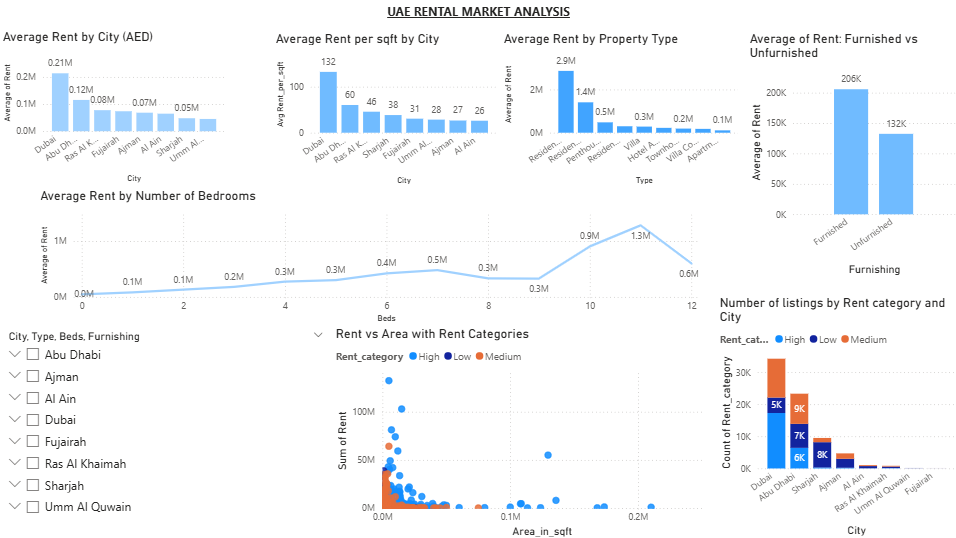

Layout of this report page (visuals, bound fields, positions):
{"tool":"powerbi","page":{"name":"Page 1","canvas":[1280,720],"ordinal":0},"visuals":[{"type":"clusteredColumnChart","title":"Average Rent by City (AED)","fields":{"Category":["dubai_rental_dataset_cleaned.City"],"Y":["Avg(dubai_rental_dataset_cleaned.Rent)"]},"box":[0,39.8,306,210],"z":0},{"type":"clusteredColumnChart","title":"Average Rent per sqft by City","fields":{"Category":["dubai_rental_dataset_cleaned.City"],"Y":["Avg(dubai_rental_dataset_cleaned.Rent_per_sqft)"]},"box":[363.7,41.2,304.7,210],"z":1000},{"type":"clusteredColumnChart","title":"Average Rent by Property Type","fields":{"Category":["dubai_rental_dataset_cleaned.Type"],"Y":["Avg(dubai_rental_dataset_cleaned.Rent)"]},"box":[668.3,41.2,322.5,210],"z":2000},{"type":"lineChart","title":"Average Rent by Number of Bedrooms","fields":{"Category":["dubai_rental_dataset_cleaned.Beds"],"Y":["Avg(dubai_rental_dataset_cleaned.Rent)"]},"box":[49.4,251.1,887.9,183.9],"z":3000},{"type":"clusteredColumnChart","title":"Average of Rent: Furnished vs Unfurnished","fields":{"Category":["dubai_rental_dataset_cleaned.Furnishing"],"Y":["Avg(dubai_rental_dataset_cleaned.Rent)"]},"box":[996.3,41.2,284.1,330.7],"z":4000},{"type":"columnChart","title":"Number of listings by Rent category and City","fields":{"Category":["dubai_rental_dataset_cleaned.City"],"Y":["CountNonNull(dubai_rental_dataset_cleaned.Rent_category)"],"Series":["dubai_rental_dataset_cleaned.Rent_category"]},"box":[956.5,393.9,323.9,326.6],"z":5000},{"type":"scatterChart","title":"Rent vs Area with Rent Categories","fields":{"X":["dubai_rental_dataset_cleaned.Area_in_sqft"],"Y":["Sum(dubai_rental_dataset_cleaned.Rent)"],"Series":["dubai_rental_dataset_cleaned.Rent_category"]},"box":[444.6,435,511.9,285.4],"z":5001},{"type":"slicer","fields":{"Values":["dubai_rental_dataset_cleaned.City","dubai_rental_dataset_cleaned.Type","dubai_rental_dataset_cleaned.Beds","dubai_rental_dataset_cleaned.Furnishing"]},"box":[0,435,444.6,284.1],"z":5002},{"type":"actionButton","box":[0,0,100,40],"z":5003},{"type":"textbox","box":[495.4,0,286.8,34.3],"z":5005}]}

Visuals, with their boxes in screenshot pixels (x1, y1, x2, y2), scaled from the page's 1280x720 canvas onto the 956x538 screenshot:
"Average Rent by City (AED)" clusteredColumnChart: locate(0, 30, 229, 187)
"Average Rent per sqft by City" clusteredColumnChart: locate(272, 31, 499, 188)
"Average Rent by Property Type" clusteredColumnChart: locate(499, 31, 740, 188)
"Average Rent by Number of Bedrooms" lineChart: locate(37, 188, 700, 325)
"Average of Rent: Furnished vs Unfurnished" clusteredColumnChart: locate(744, 31, 955, 278)
"Number of listings by Rent category and City" columnChart: locate(714, 294, 955, 537)
"Rent vs Area with Rent Categories" scatterChart: locate(332, 325, 714, 537)
slicer - dubai_rental_dataset_cleaned.City x dubai_rental_dataset_cleaned.Type: locate(0, 325, 332, 537)
actionButton: locate(0, 0, 75, 30)
textbox: locate(370, 0, 584, 26)
